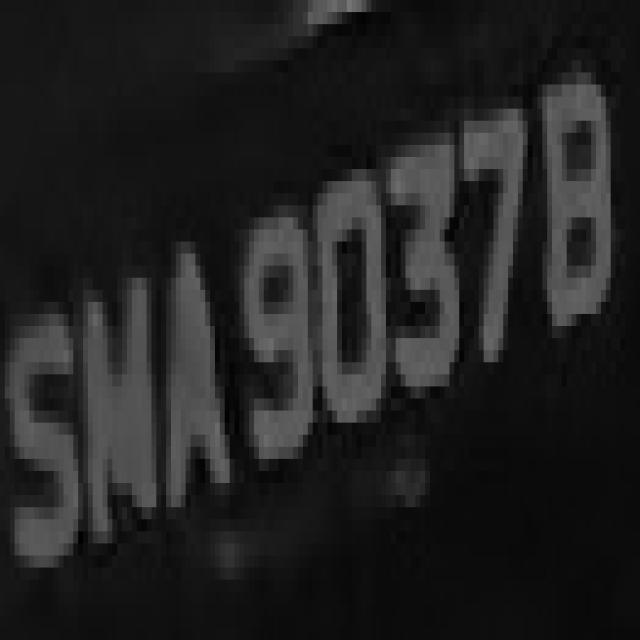0: (303, 133, 391, 459)
3: (376, 85, 450, 483)
7: (454, 48, 538, 423)
9: (230, 193, 318, 507)
A: (152, 205, 235, 568)
B: (538, 49, 626, 362)
M: (83, 242, 166, 532)
S: (10, 278, 88, 568)
